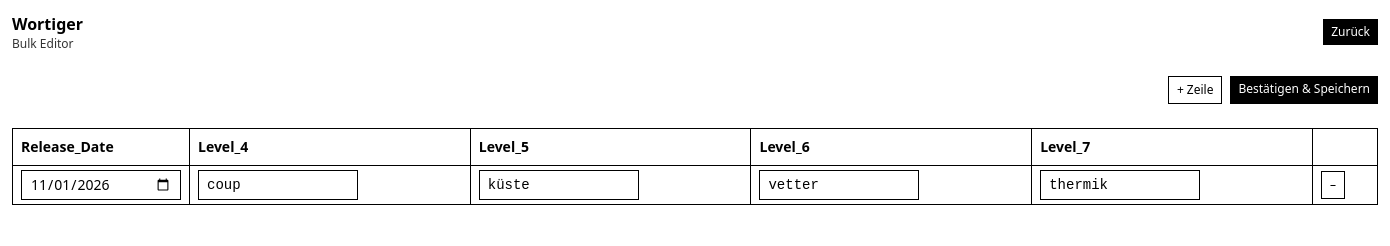
it: WortigerBulkEditor › re-validates a cell when its value is edited
The width and height of the screenshot is (1390, 246).
Replace the text in the field named "Level 4 Lösung" with "quux" at (278, 185), box [198,170,358,200]
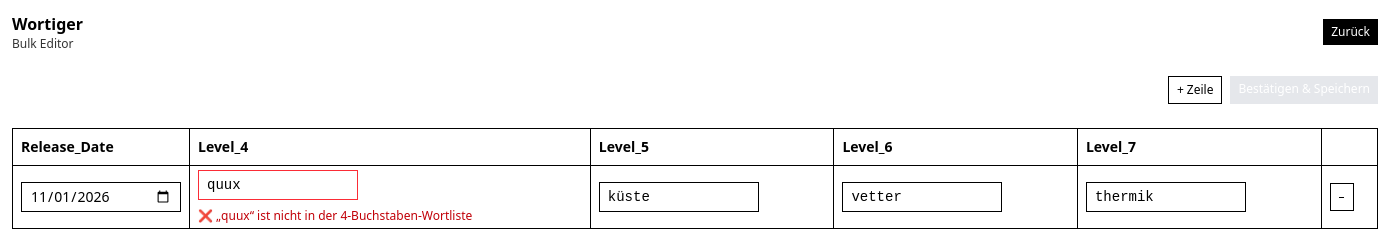
Expected: the text "❌ „quux“ ist nicht in der 4-Buchstaben-Wortliste" is shown, [198,207,472,224]
